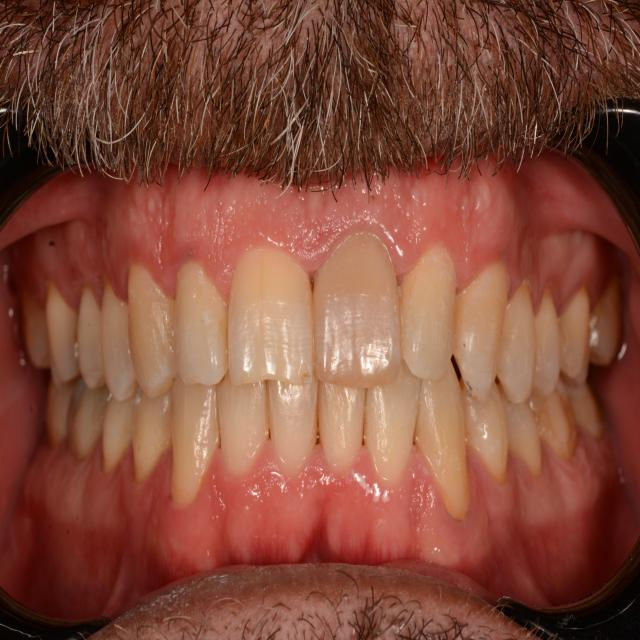tooth: (307, 252, 401, 383), (226, 257, 312, 381), (404, 263, 460, 389), (175, 271, 227, 387), (422, 397, 473, 509), (459, 284, 511, 390), (129, 271, 174, 388), (167, 399, 223, 492), (369, 387, 420, 480), (276, 378, 319, 473), (100, 288, 136, 390), (46, 288, 84, 381), (507, 285, 538, 393), (321, 388, 361, 470), (469, 392, 510, 472), (78, 288, 108, 383), (222, 392, 262, 461), (102, 394, 138, 470), (508, 396, 544, 472), (134, 395, 169, 471), (536, 297, 564, 387), (68, 383, 102, 450), (543, 395, 579, 453)
